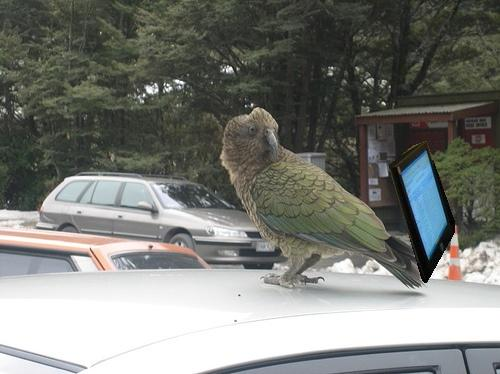tampered: (390, 142, 455, 283)
